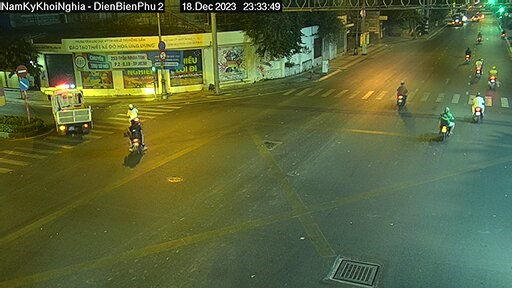motorbike: (112, 120, 150, 156), (391, 77, 409, 108), (440, 104, 456, 135), (119, 103, 145, 122), (472, 91, 485, 118)
truck: (43, 86, 93, 140)
